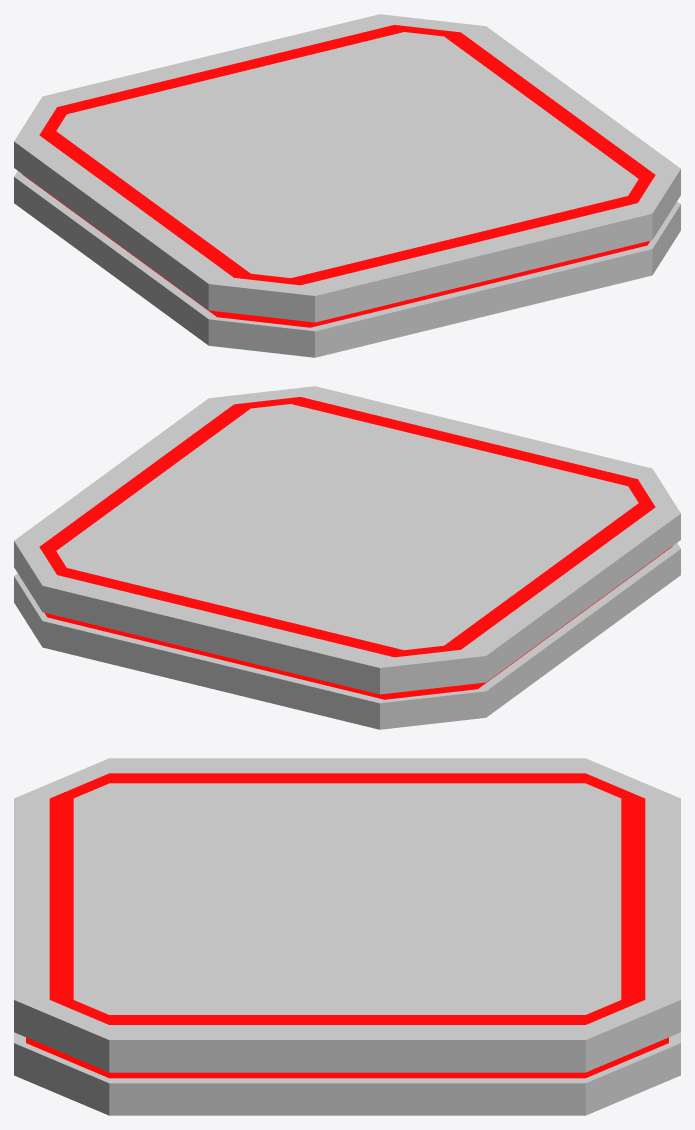
The model's file is platformMetal.glb.
3 views of the same model, one above another, from view 1: azimuth 30°, elevation 25°; view 2: azimuth 150°, elevation 25°; view 3: azimuth 270°, elevation 25° (orthographic). The views are drawn at different scales.
Visible parts, largest first — view 1: StartPlatformFrame, StartPlatformFlair; view 2: StartPlatformFrame, StartPlatformFlair; view 3: StartPlatformFrame, StartPlatformFlair.
Boxes of the visible parts, bbox=[...] form: StartPlatformFrame: bbox=[14, 14, 680, 357]; StartPlatformFlair: bbox=[22, 25, 655, 327]; StartPlatformFrame: bbox=[14, 386, 680, 729]; StartPlatformFlair: bbox=[39, 397, 672, 699]; StartPlatformFrame: bbox=[14, 758, 680, 1115]; StartPlatformFlair: bbox=[26, 773, 668, 1078].
Size of what is drawn, in the model's own units: 1.4 by 0.175 by 1.4.
